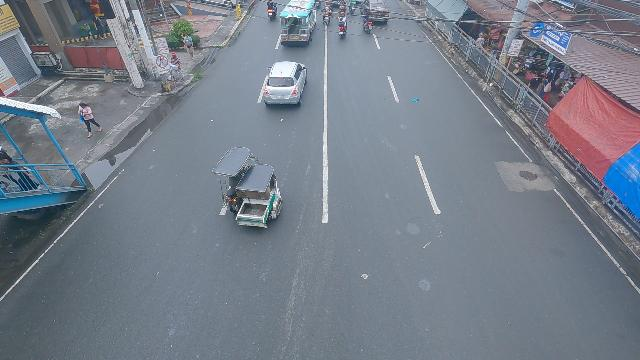car: (262, 60, 307, 108), (360, 0, 389, 24)
jeepney: (279, 0, 318, 48)
motorcycle: (361, 10, 375, 35), (337, 15, 349, 41), (322, 0, 333, 26), (266, 0, 278, 21), (348, 1, 357, 14)
